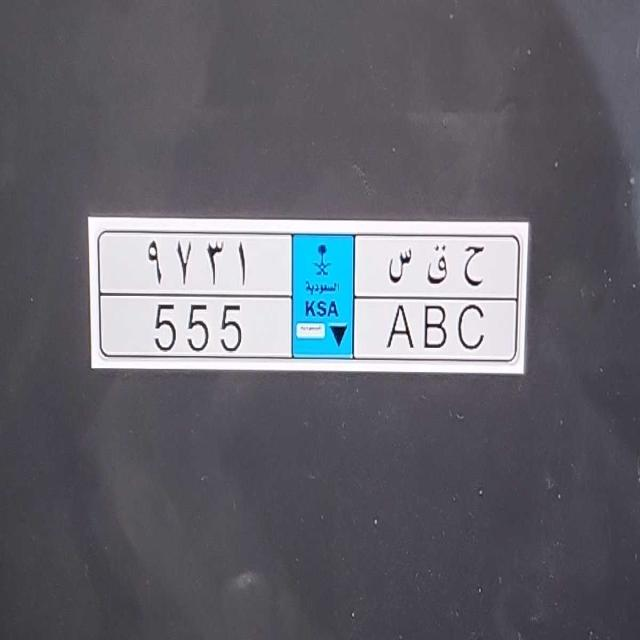license_plate: (119, 294, 502, 360)
